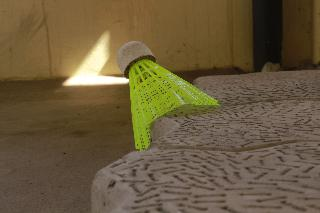shuttlecock: (116, 40, 220, 149)
